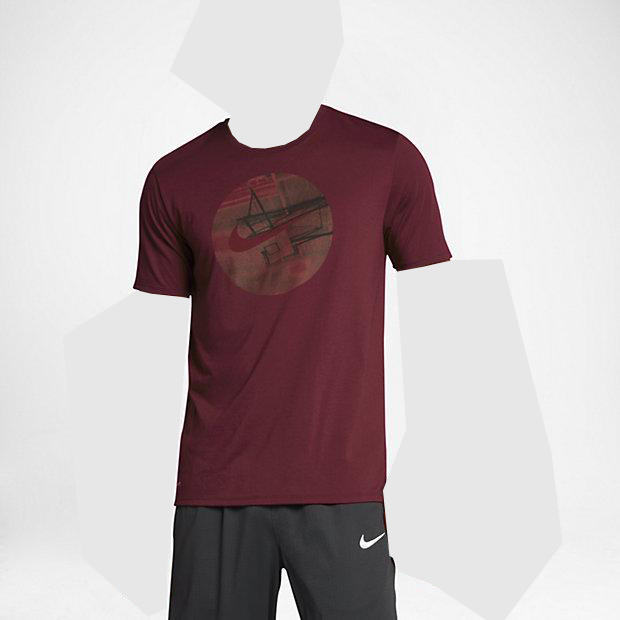teeshirt: (120, 103, 459, 517)
